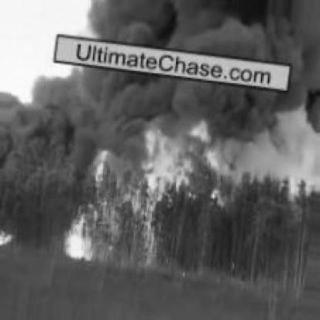Fire: (54, 108, 247, 270)
Smoke: (30, 2, 304, 126)
